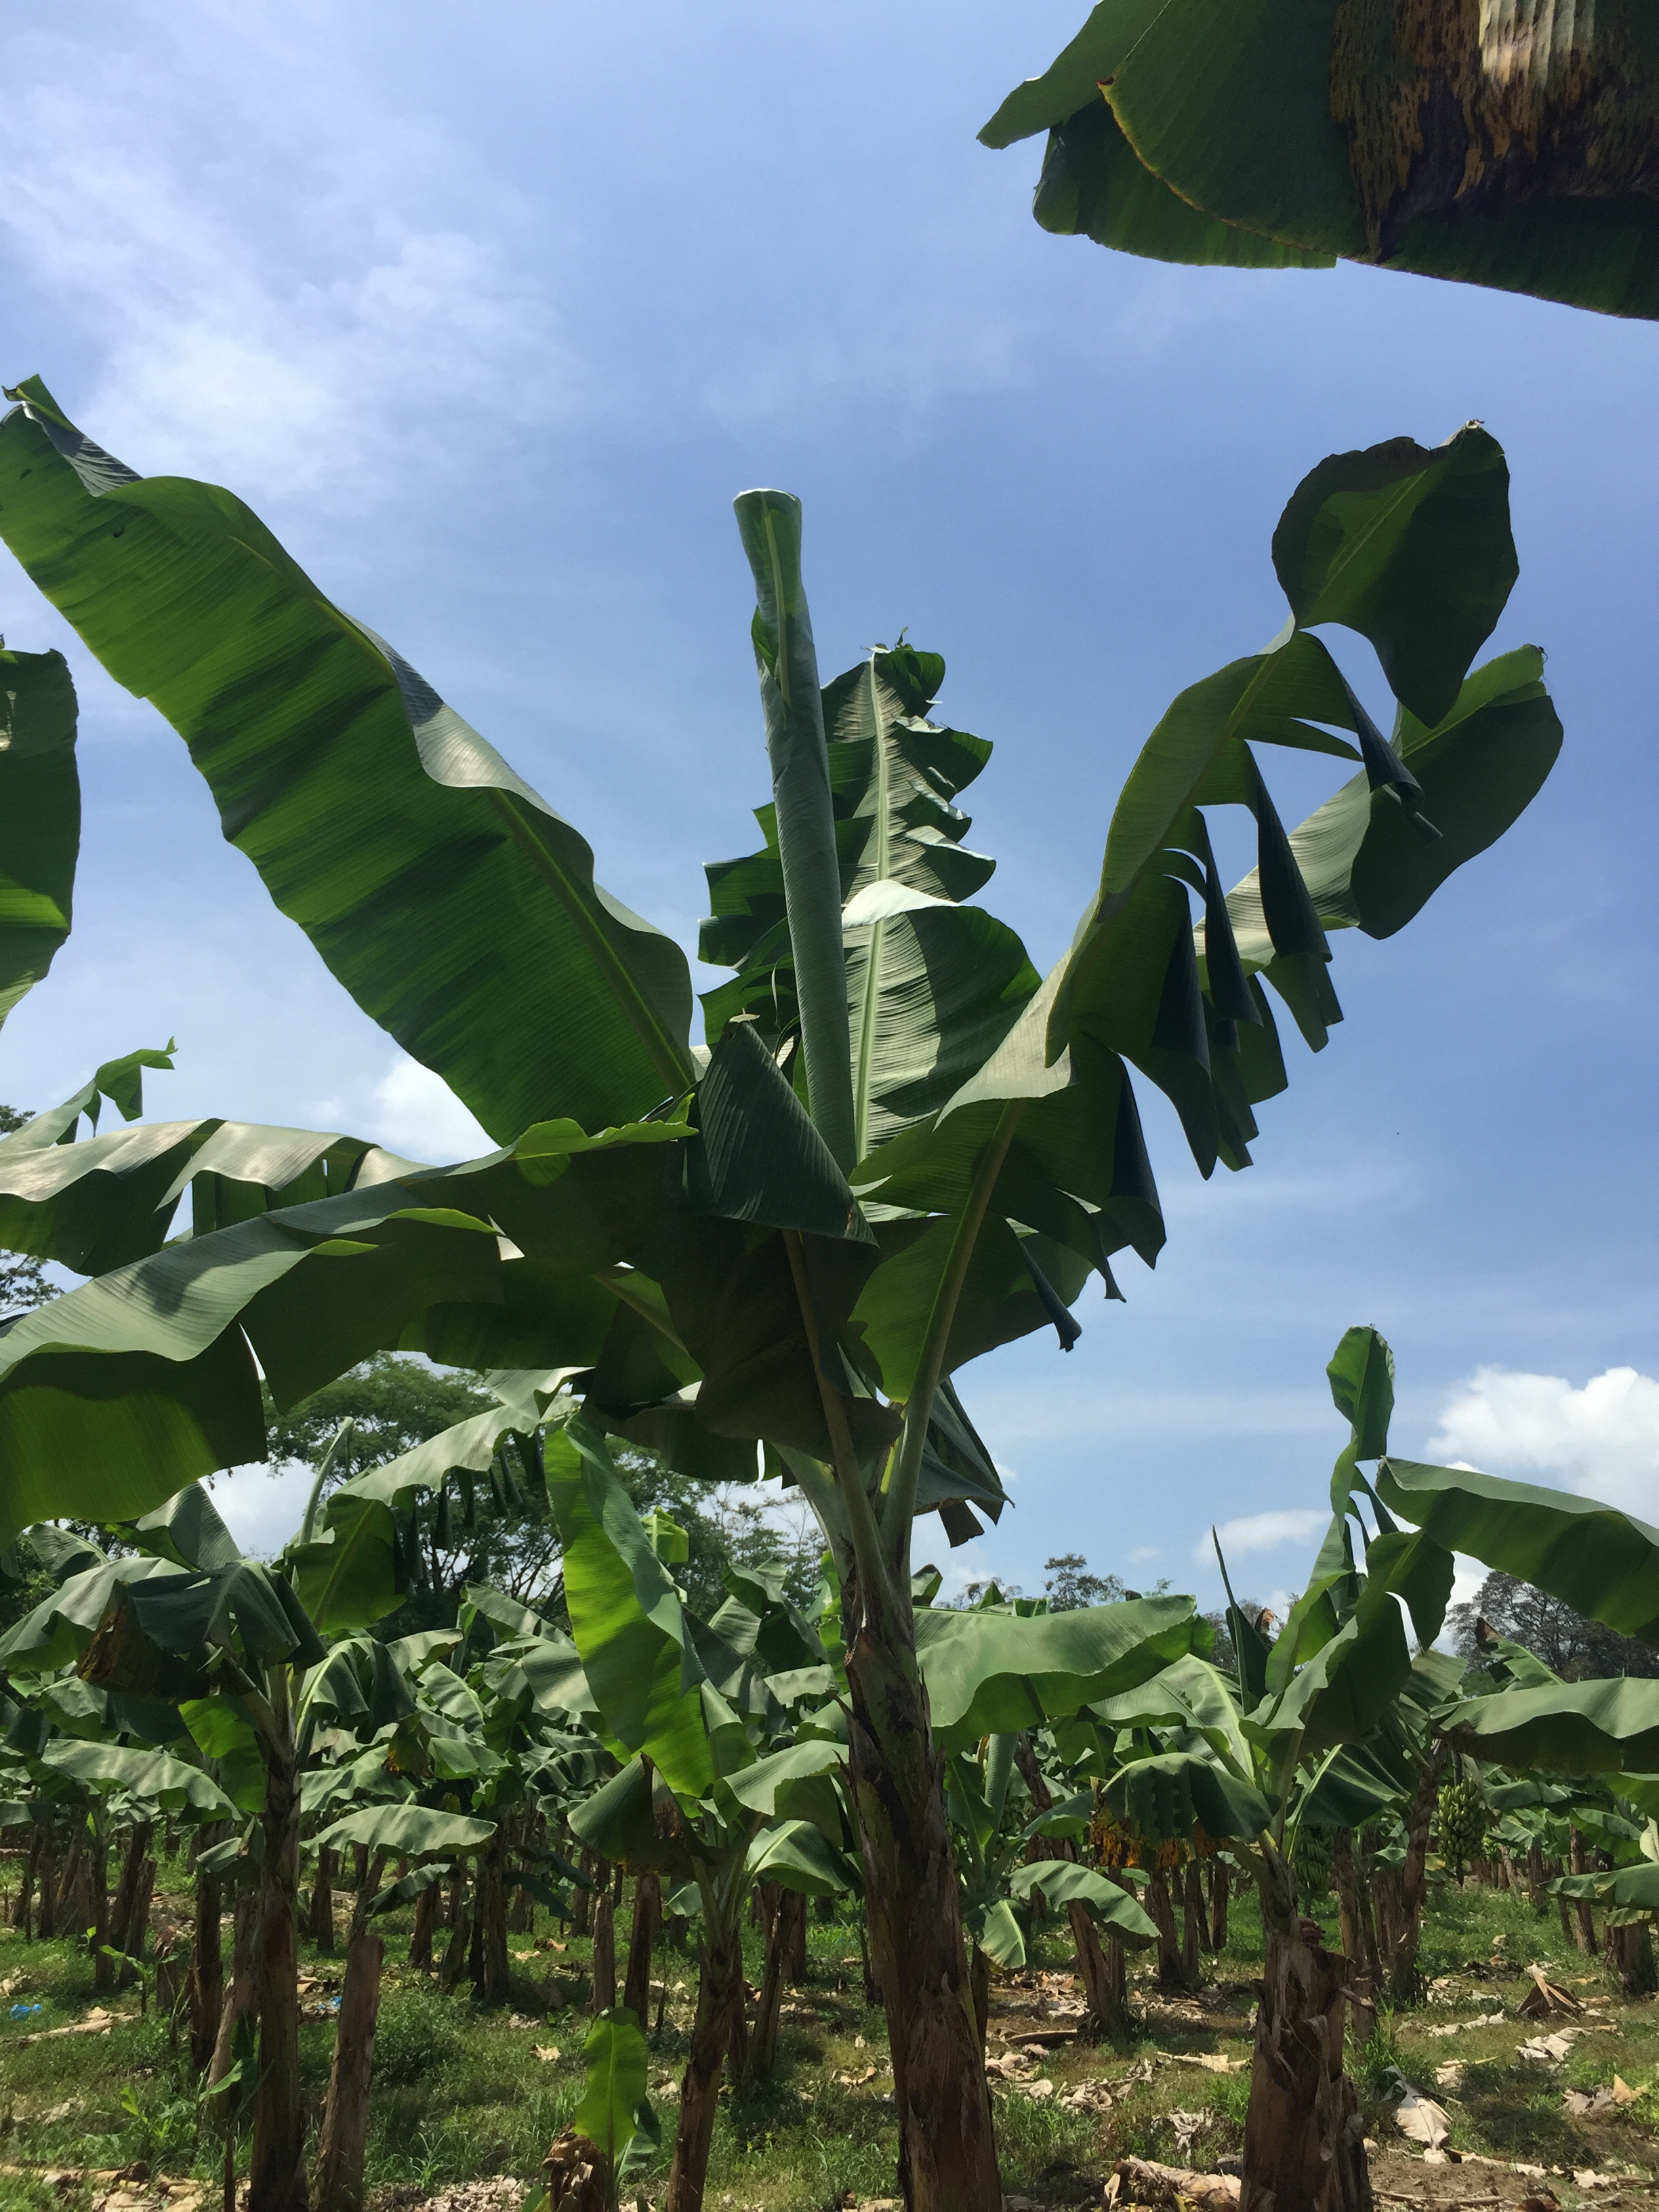candleleafs: (730, 488, 856, 1183), (1213, 1524, 1251, 1716), (300, 1416, 354, 1543)
